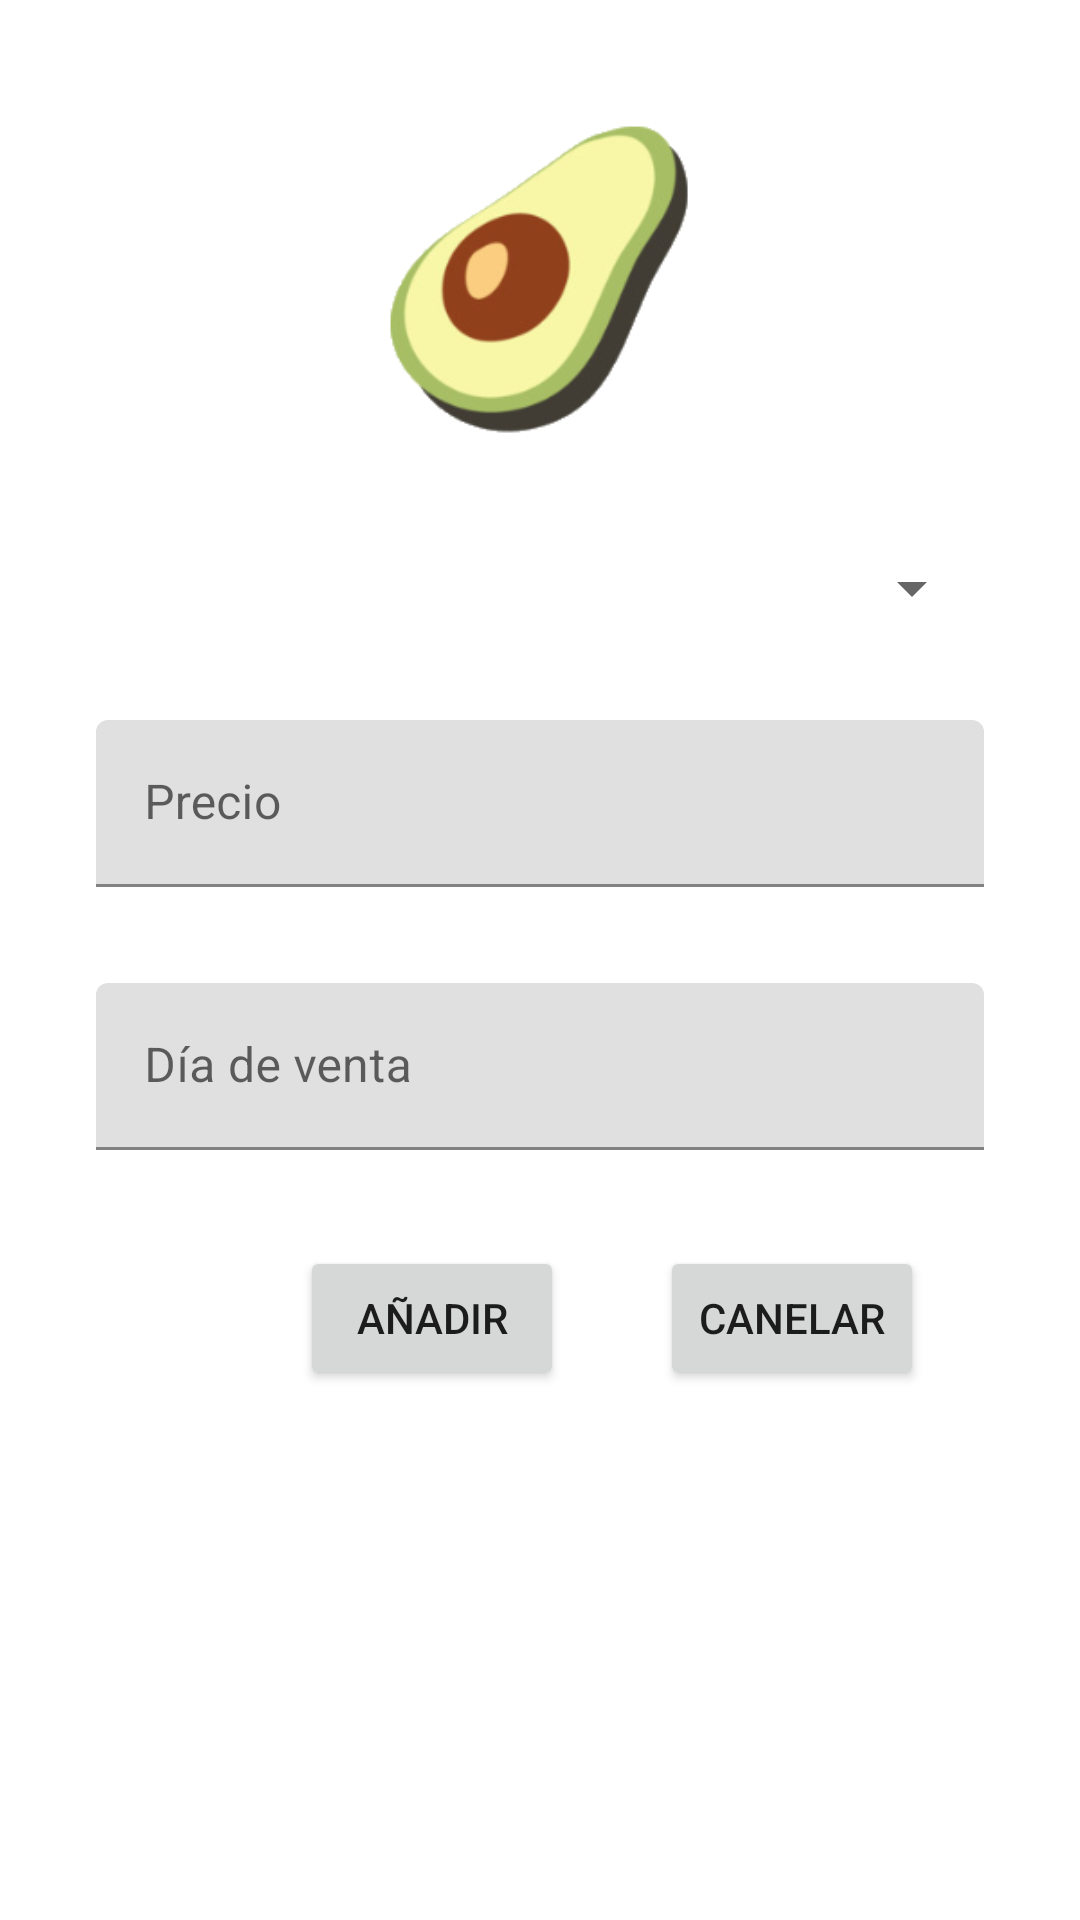

Where to tap for icons on this 1080px x 1920px app screen, as (x=x, y=y):
aguacate: (x=539, y=279)
